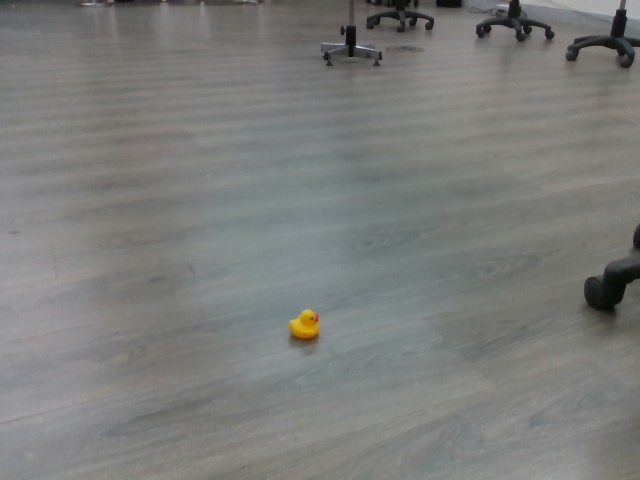duck: (285, 307, 321, 340)
